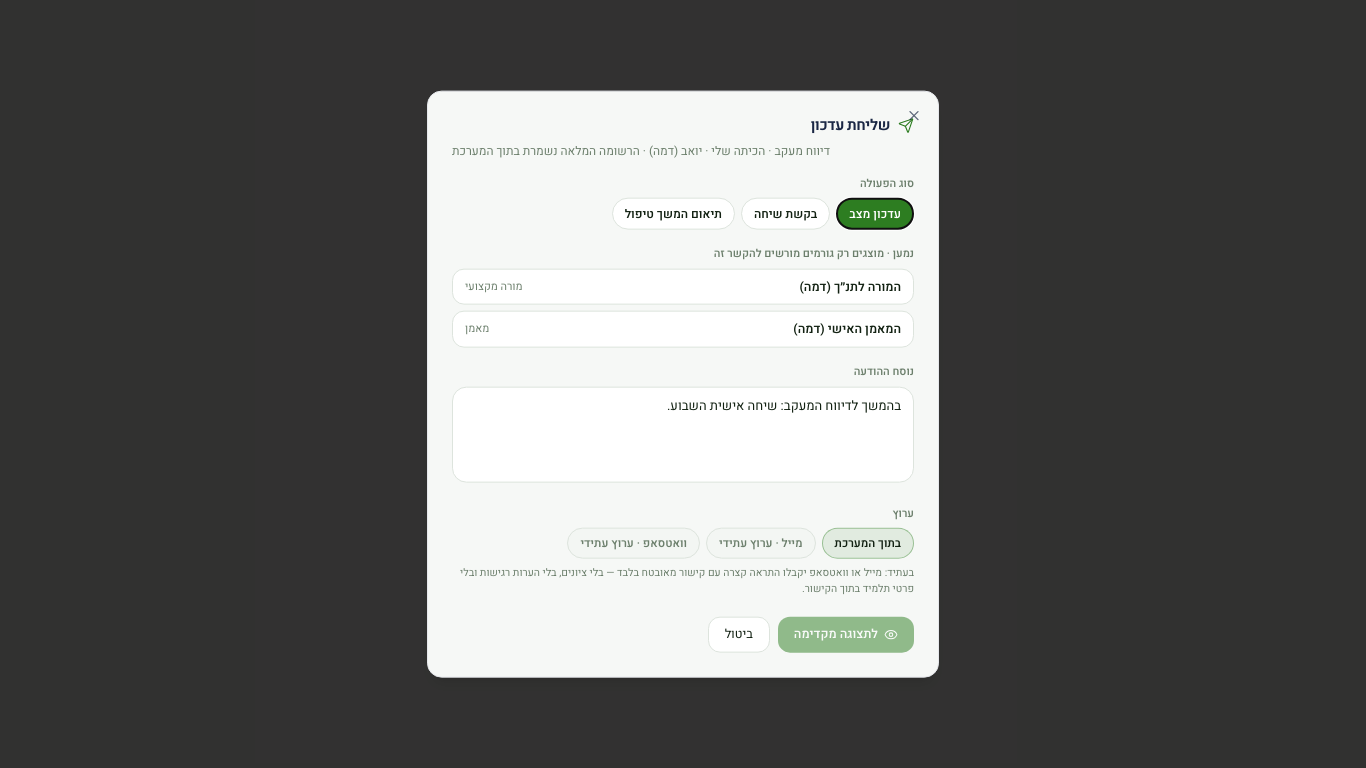
Test: SendUpdateDialog — safe preview flow › preview shows recipient, role, student, content and channel before any action
This screenshot has width=1366, height=768.
Click the text "המורה לתנ״ך (דמה)": (850, 286) x1=800 y1=277 x2=901 y2=296
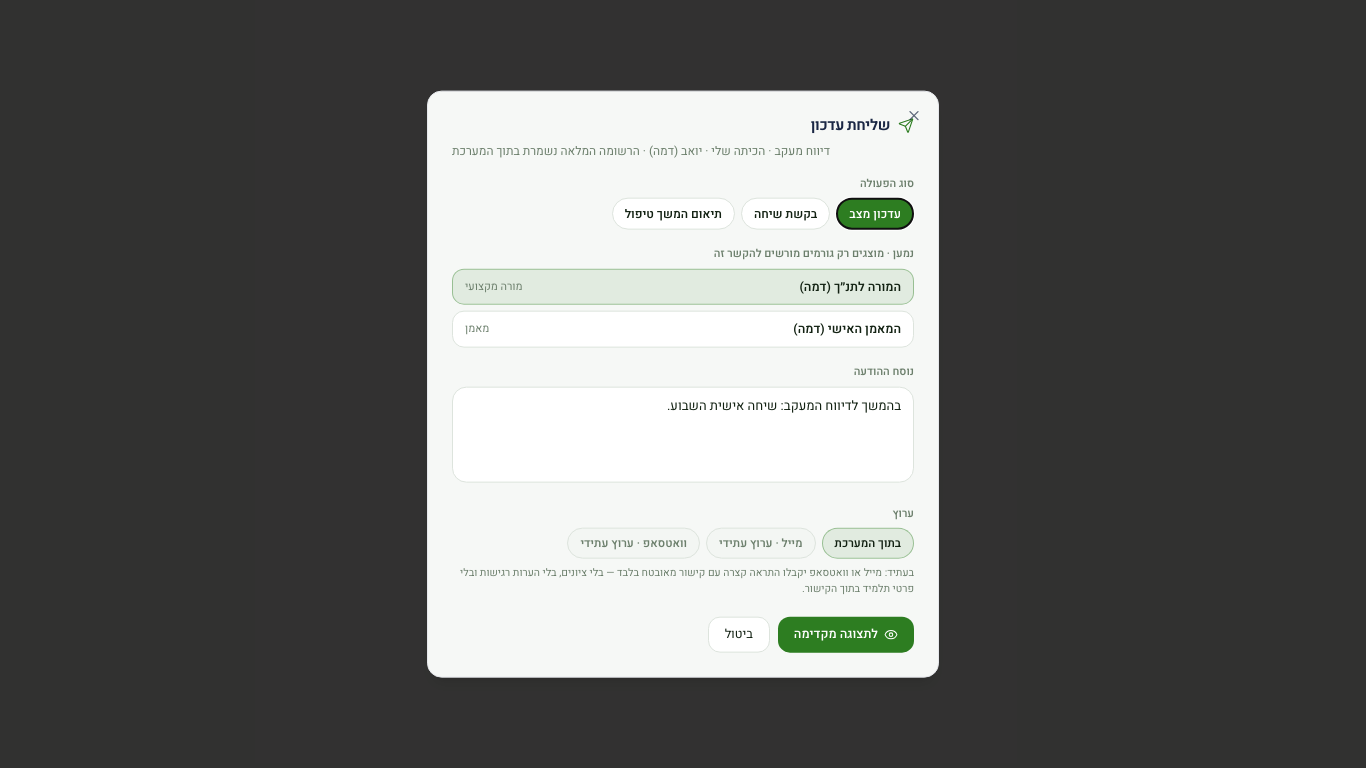
Click the button "לתצוגה מקדימה": (846, 634) x1=778 y1=616 x2=914 y2=652
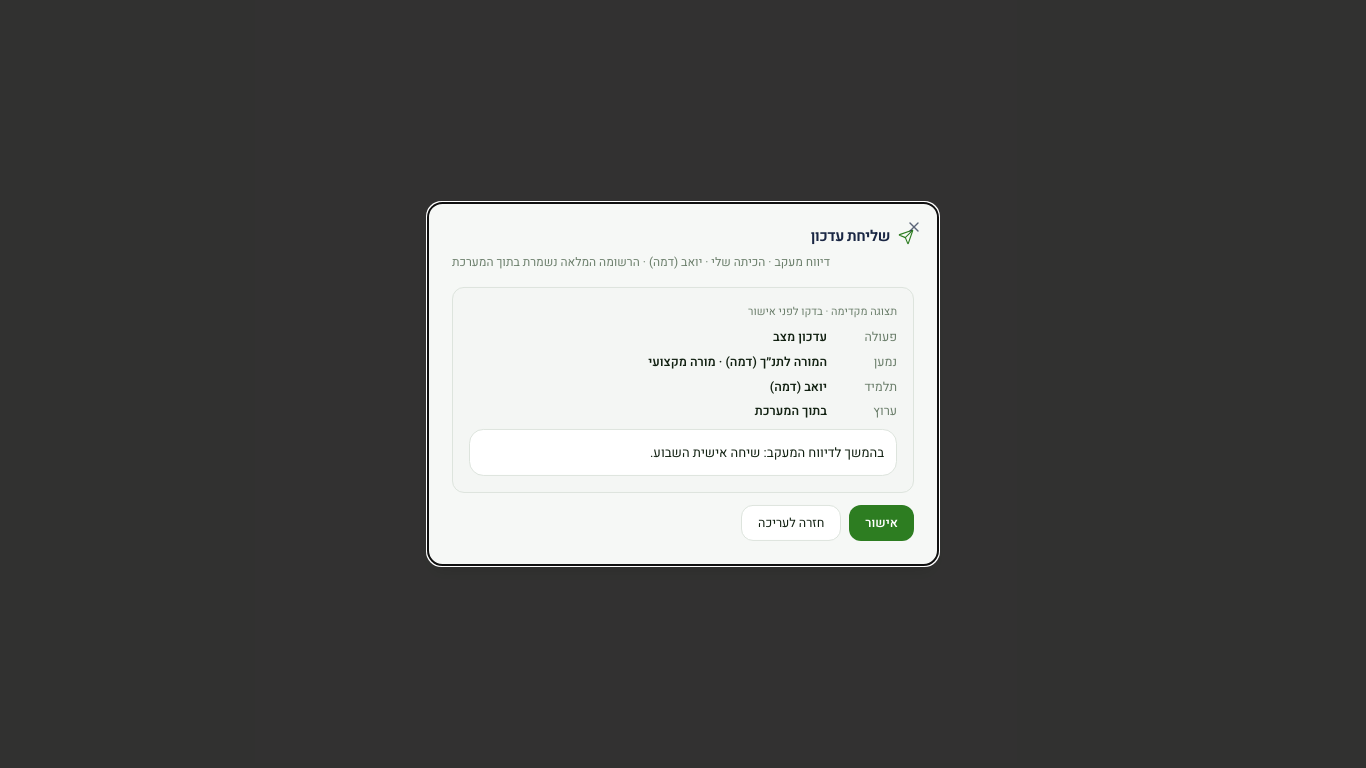
Now the text "תצוגה מקדימה · בדקו לפני אישור" is shown, box x1=748 y1=302 x2=897 y2=319
Now the text "המורה לתנ״ך (דמה) · מורה מקצועי" is shown, box x1=648 y1=353 x2=827 y2=371
Now the text "יואב (דמה)" is shown, box x1=770 y1=377 x2=827 y2=395
